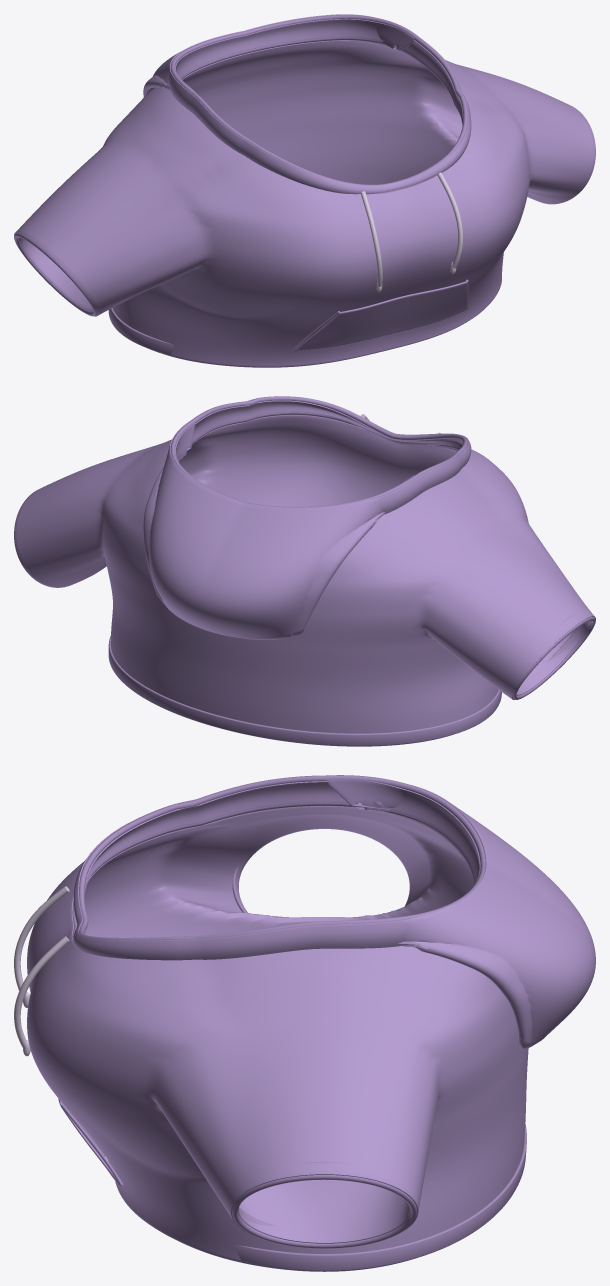
The model's file is Feminine-sweatshirt-top.glb.
3 views of the same model, one above another, from view 1: azimuth 30°, elevation 25°; view 2: azimuth 150°, elevation 25°; view 3: azimuth 270°, elevation 25° (orthographic). The views are drawn at different scales.
Parts seen in each view (by area): view 1: Clothing / sweatshirt, Hoodie / attached opening, Hoodie / kangaroo pocket, Hoodie / rolled opening export, Hoodie / resting hood, Neckline / fitted crew export, Hoodie / ribbed hem, Sleeve / soft cuff -1 export, Hoodie / drawcord 1 export, Hoodie / drawcord -1 export; view 2: Clothing / sweatshirt, Hoodie / resting hood, Hoodie / ribbed hem, Hoodie / attached opening, Hoodie / rolled opening export, Sleeve / soft cuff -1 export, Neckline / fitted crew export; view 3: Clothing / sweatshirt, Hoodie / resting hood, Hoodie / attached opening, Hoodie / ribbed hem, Hoodie / rolled opening export, Sleeve / soft cuff 1 export, Neckline / fitted crew export, Hoodie / drawcord 1 export, Hoodie / drawcord -1 export.
Part boxes in pixels (left/top/right/bottom): Clothing / sweatshirt: left=14, top=40, right=595, bottom=366; Hoodie / attached opening: left=167, top=18, right=471, bottom=194; Hoodie / kangaroo pocket: left=295, top=281, right=468, bottom=350; Hoodie / rolled opening export: left=170, top=15, right=467, bottom=185; Hoodie / resting hood: left=143, top=14, right=414, bottom=97; Neckline / fitted crew export: left=181, top=37, right=460, bottom=194; Hoodie / ribbed hem: left=108, top=308, right=173, bottom=354; Sleeve / soft cuff -1 export: left=14, top=233, right=96, bottom=316; Hoodie / drawcord 1 export: left=437, top=172, right=463, bottom=268; Hoodie / drawcord -1 export: left=360, top=191, right=382, bottom=286; Clothing / sweatshirt: left=14, top=415, right=595, bottom=733; Hoodie / resting hood: left=143, top=422, right=414, bottom=639; Hoodie / ribbed hem: left=108, top=636, right=501, bottom=746; Hoodie / attached opening: left=168, top=396, right=471, bottom=514; Hoodie / rolled opening export: left=170, top=396, right=467, bottom=507; Sleeve / soft cuff -1 export: left=512, top=617, right=595, bottom=699; Neckline / fitted crew export: left=192, top=412, right=459, bottom=450; Clothing / sweatshirt: left=27, top=806, right=528, bottom=1263; Hoodie / resting hood: left=324, top=778, right=595, bottom=1048; Hoodie / attached opening: left=73, top=781, right=480, bottom=960; Hoodie / ribbed hem: left=236, top=1124, right=526, bottom=1271; Hoodie / rolled opening export: left=79, top=775, right=485, bottom=940; Sleeve / soft cuff 1 export: left=232, top=1175, right=417, bottom=1248; Neckline / fitted crew export: left=72, top=802, right=474, bottom=941; Hoodie / drawcord 1 export: left=14, top=936, right=69, bottom=1048; Hoodie / drawcord -1 export: left=14, top=886, right=69, bottom=999.
Bounding box in the file's own units: 0.965 × 0.3911 × 0.6693.
